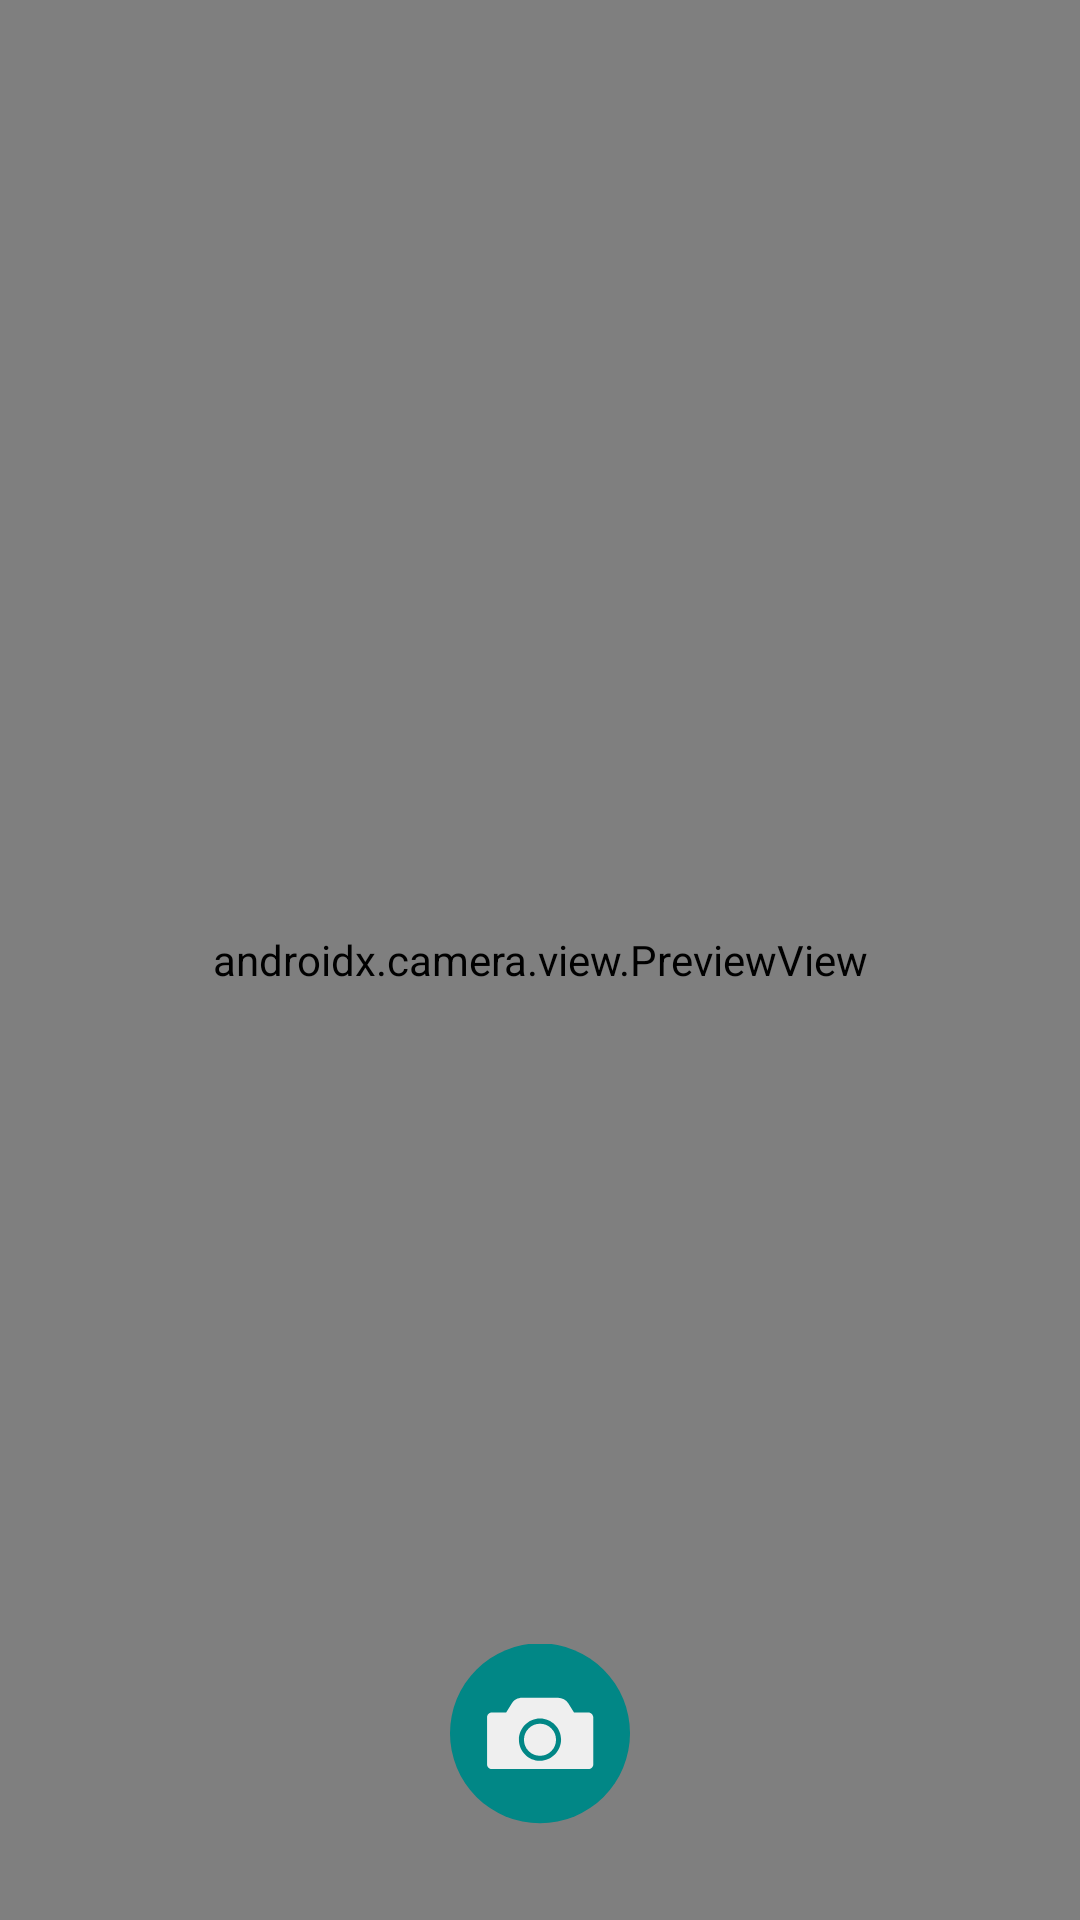

Where to tap for icons on this 1080x1920 app screen, as point (x, y):
capture: point (540, 1734)
